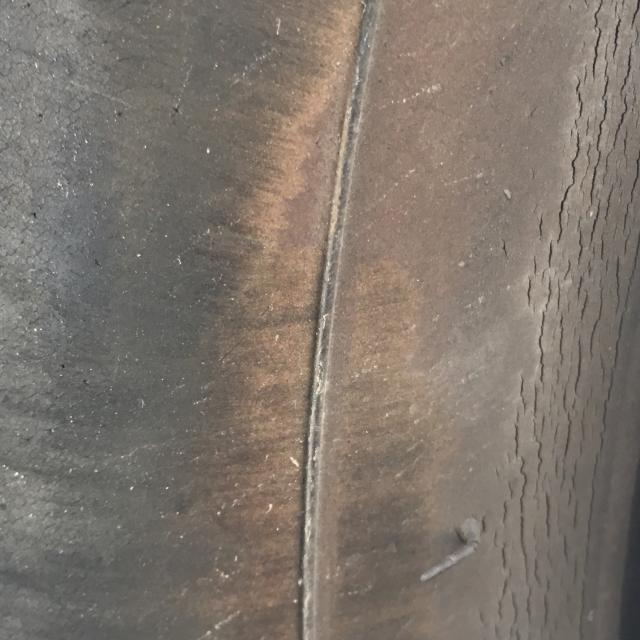Cracks: (454, 0, 640, 640)
